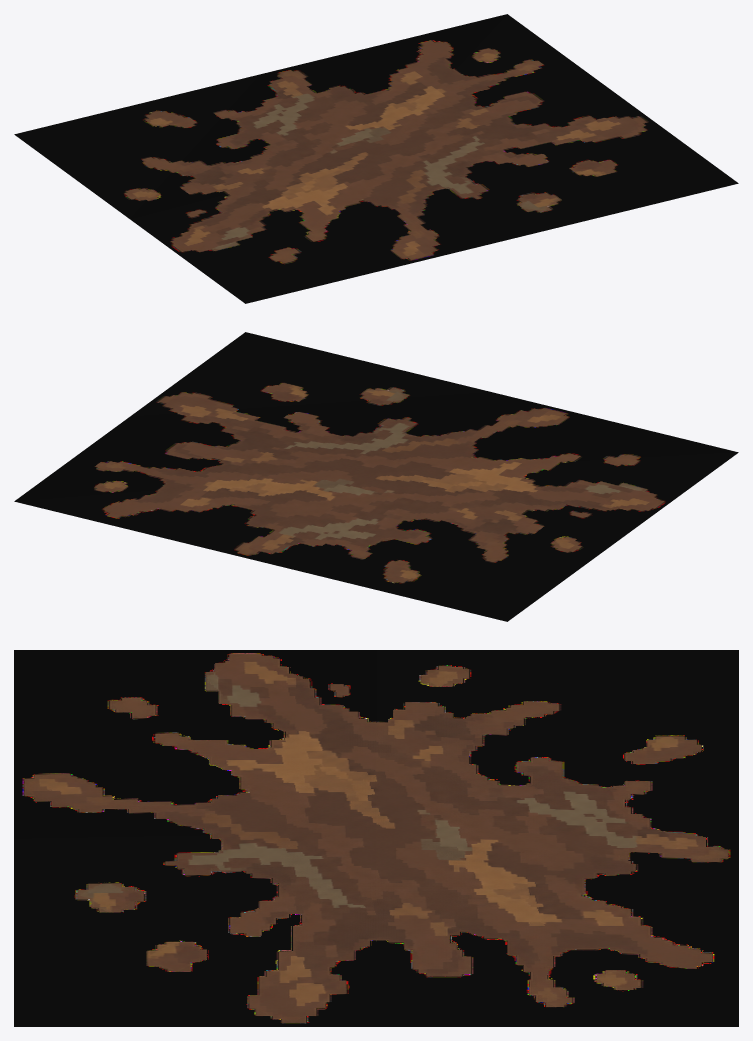
Rendered from SM_D14_MudSplatter.fbx.
The picture shows the model from 3 angles, top to bottom: view 1: azimuth 30°, elevation 25°; view 2: azimuth 150°, elevation 25°; view 3: azimuth 270°, elevation 25°; orthographic projection. The views are drawn at different scales.
Visible parts, largest first — view 1: D14_Decal; view 2: D14_Decal; view 3: D14_Decal.
Part boxes in pixels (x1=…): D14_Decal: x1=14, y1=14, x2=738, y2=303; D14_Decal: x1=14, y1=332, x2=738, y2=621; D14_Decal: x1=14, y1=650, x2=738, y2=1026.
Bounding box in the file's own units: 1 × 0.008 × 0.8128.
